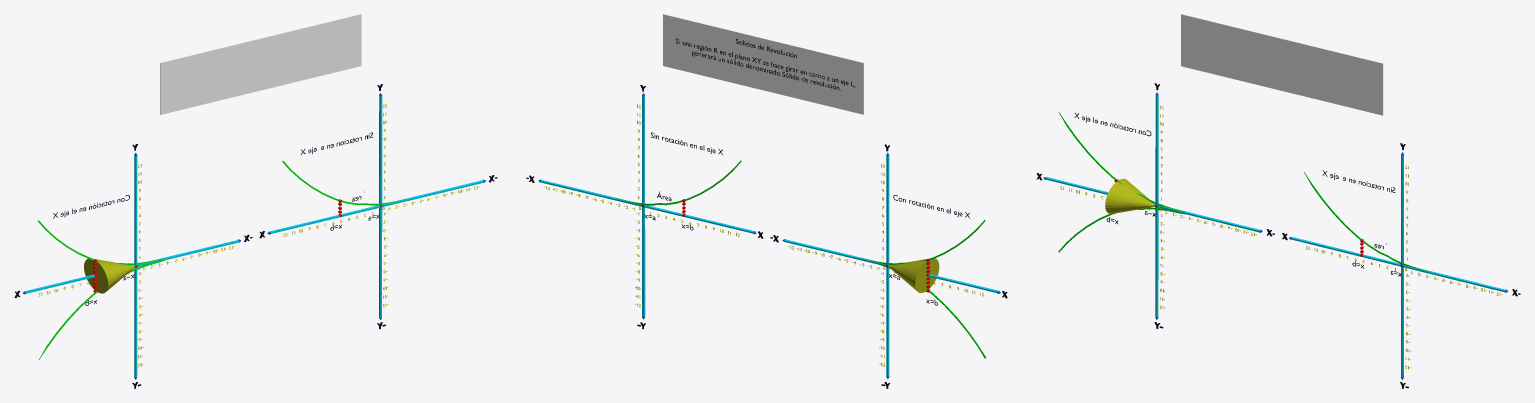
Rendered from int-def-solidos-revolucion.fbx.
3 renders of one model, left to right at view 1: azimuth 30°, elevation 25°; view 2: azimuth 150°, elevation 25°; view 3: azimuth 330°, elevation 25°, orthographic.
Visible parts, largest first — view 1: Cubo.003, Cone.004, Cubo.002, Cubo.001, Cubo, Cubo.004; view 2: Cubo.003, Text.003, Cone.004, Cubo.002, Cubo.001, Cubo, Cubo.004; view 3: Cubo.003, Cone.004, Cubo.002, Cubo, Cubo.001, Cubo.004.
Part boxes in pixels (box(x1,y1,x2,y2)): Cubo.003: box(160, 14, 361, 114); Cone.004: box(84, 258, 134, 293); Cubo.002: box(134, 155, 137, 377); Cubo.001: box(379, 96, 382, 317); Cubo: box(269, 180, 484, 233); Cubo.004: box(23, 240, 239, 293); Cubo.003: box(663, 14, 863, 114); Text.003: box(676, 38, 855, 90); Cone.004: box(888, 258, 939, 292); Cubo.002: box(886, 155, 889, 376); Cubo.001: box(642, 96, 645, 317); Cubo: box(540, 180, 753, 233); Cubo.004: box(784, 239, 998, 292); Cubo.003: box(1181, 14, 1383, 115); Cone.004: box(1105, 178, 1154, 213); Cubo.002: box(1155, 95, 1158, 317); Cubo: box(1290, 236, 1505, 292); Cubo.001: box(1401, 155, 1403, 377); Cubo.004: box(1045, 177, 1259, 232).
Bounding box in the file's own units: 1218 × 772 × 107.
